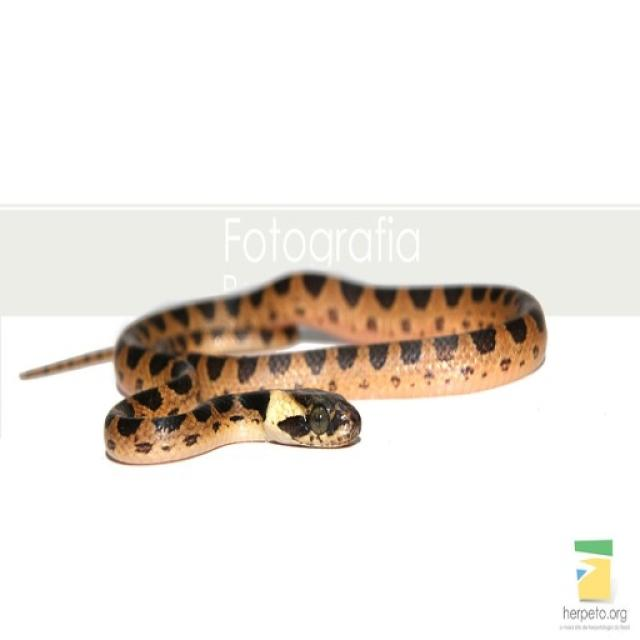snake: (31, 264, 557, 452)
